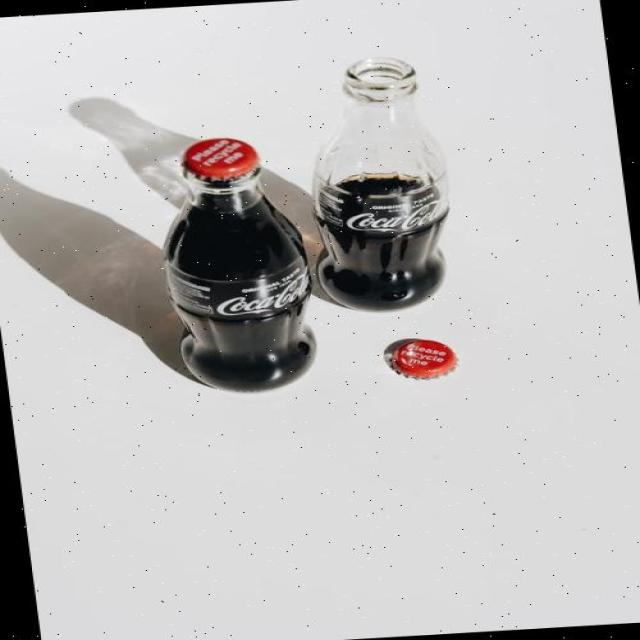coca-cola: (119, 126, 333, 404), (282, 49, 469, 318)
